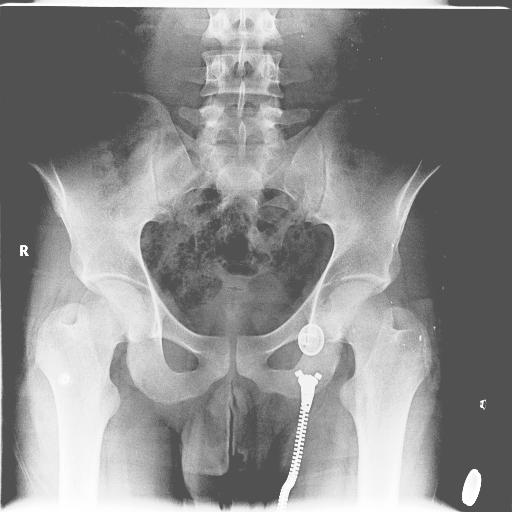normal: (36, 280, 150, 512), (324, 280, 433, 511)
